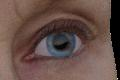eye: (47, 31, 76, 57)
